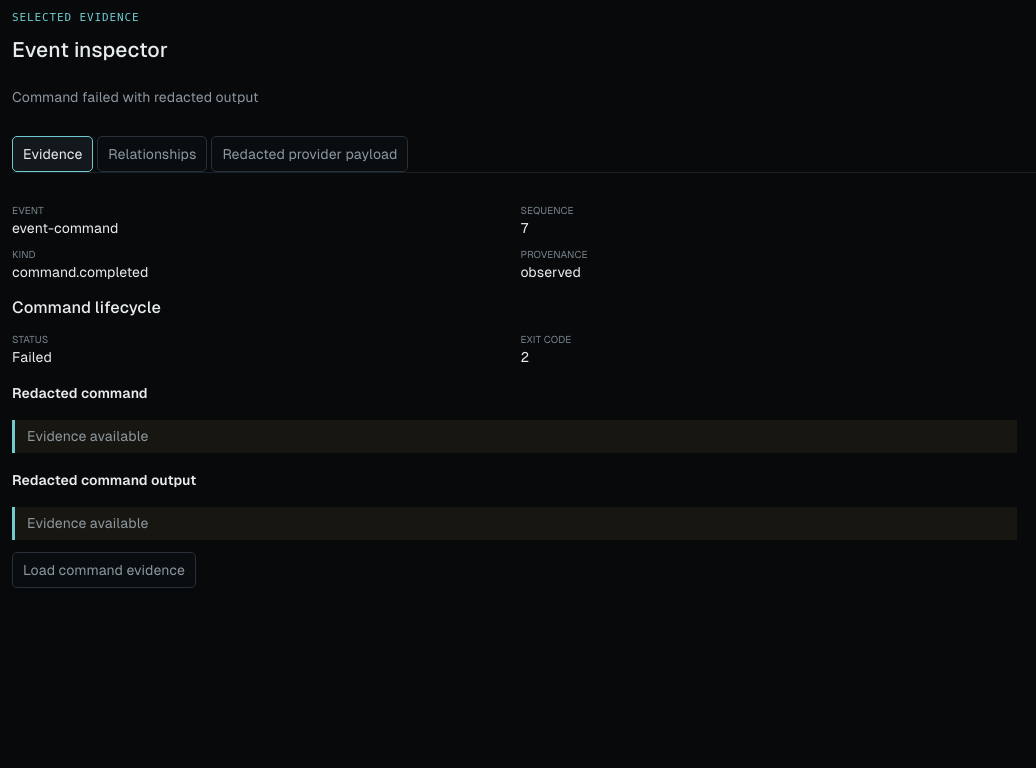
Test: bounded event inspector › fetches only event detail on selection and waits for an explicit content request
The width and height of the screenshot is (1036, 768).
Expected: the heading "Command lifecycle" is shown, [12,298,161,317]
Click the button "Load command evidence" at (104, 570), box [12,552,196,588]
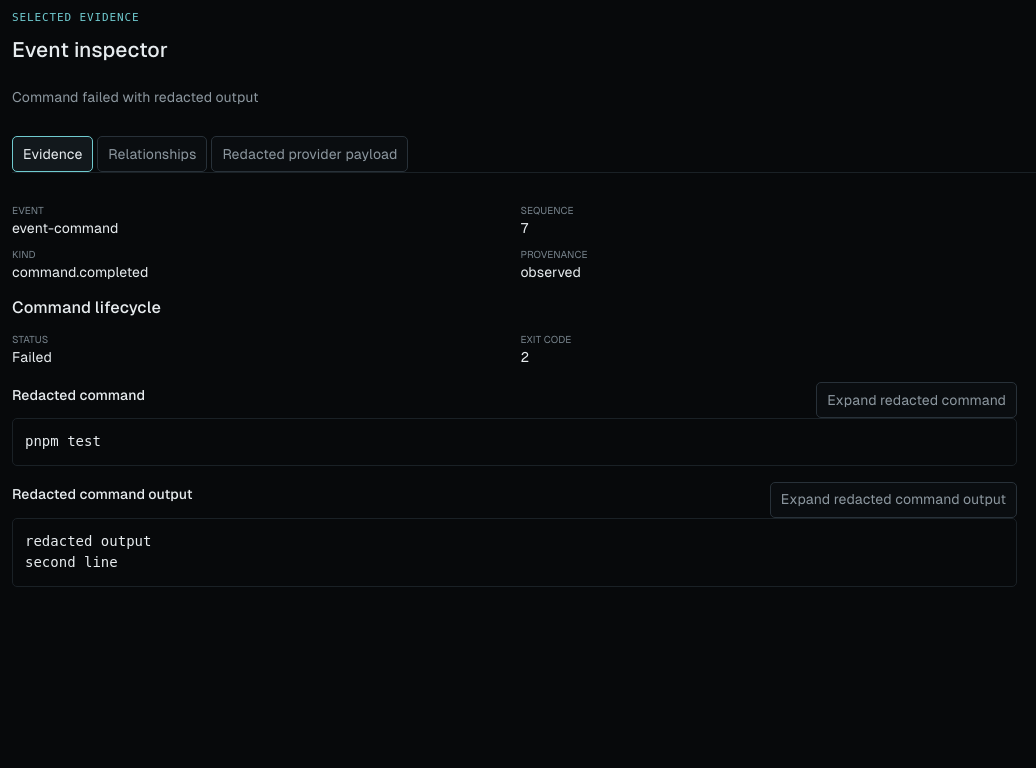
Expected: the text "redacted output second line" is shown, [25,533,151,570]
